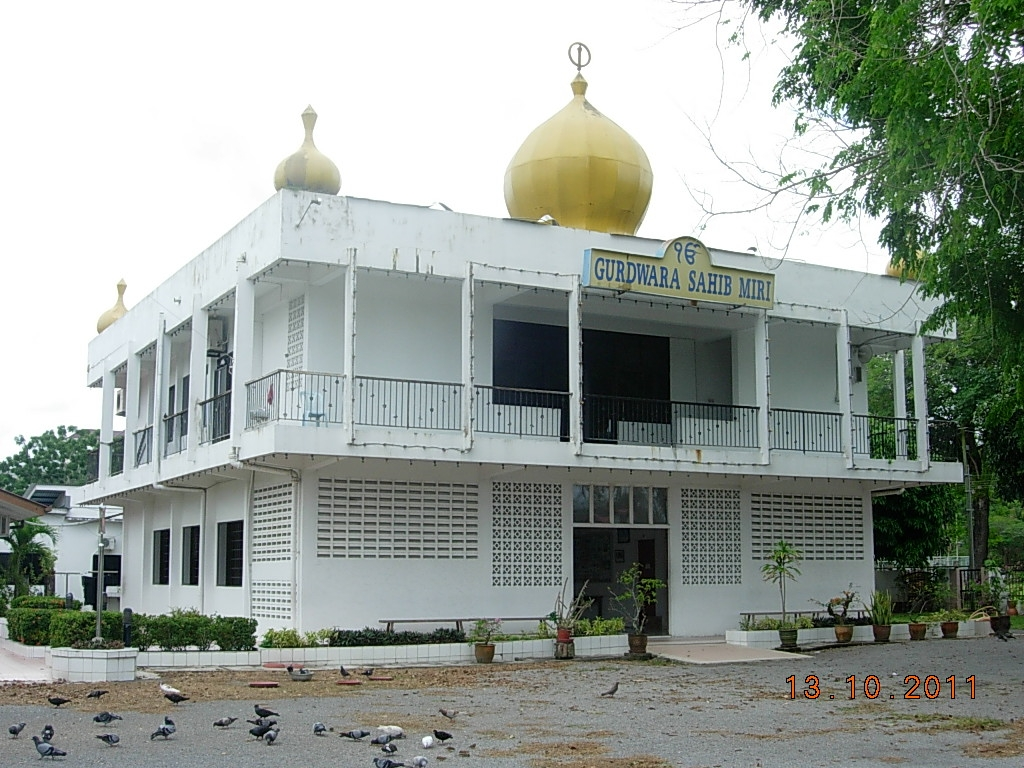Gurdwara: (58, 34, 932, 642)
